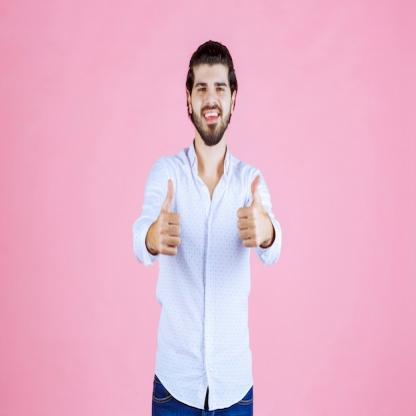thumb_up: (152, 175, 184, 257), (236, 173, 268, 250)
